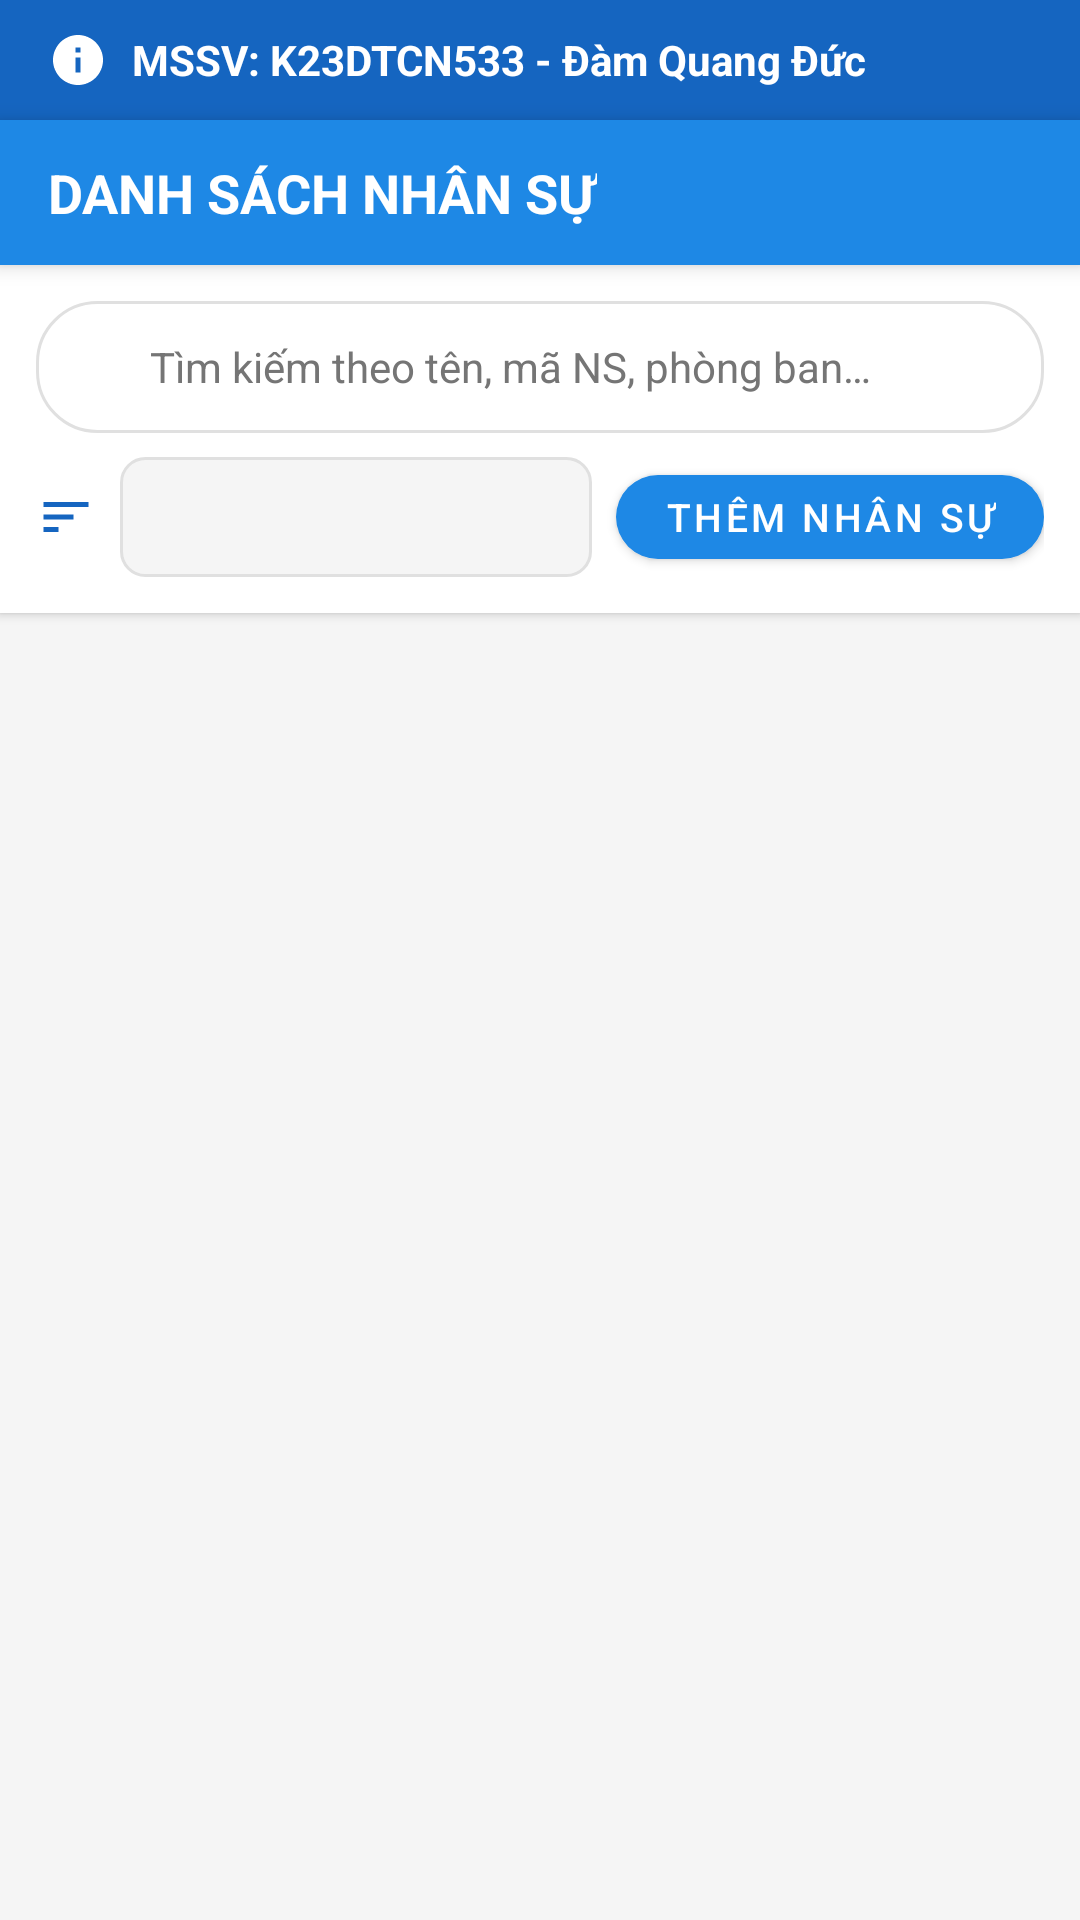

Named icons in this screenshot (1080×1920) and their centers, [x,y]:
info: [78,60]
sort: [66,517]
